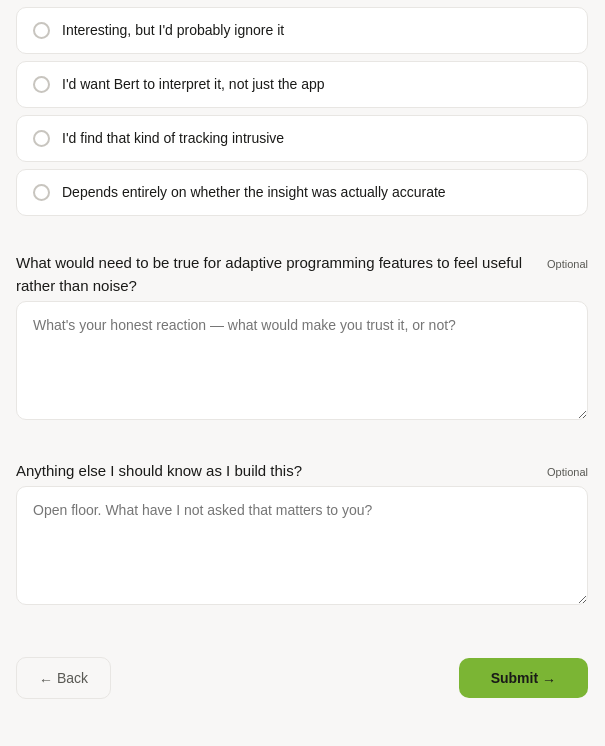
Test: submit handler › shows error message when fetch throws a network error
(page scrolled)
Click the button "Submit →".
click(523, 678)  # box [459, 658, 588, 698]
(page scrolled)
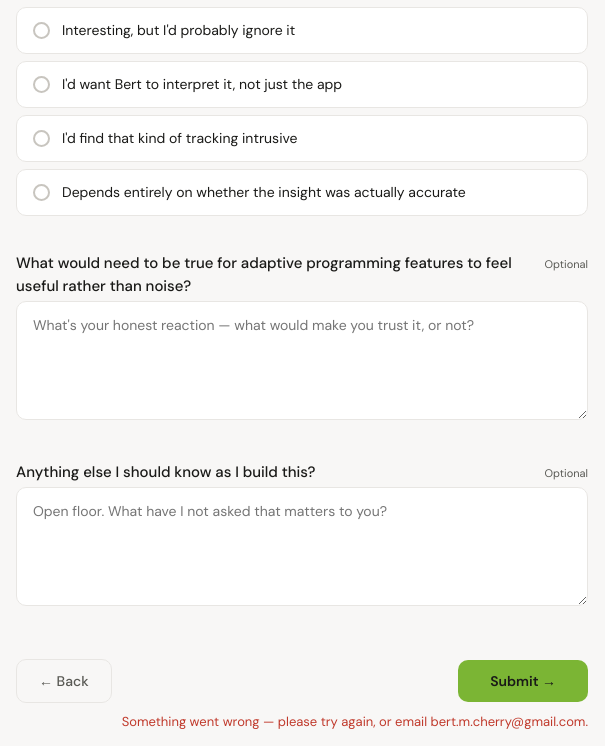
Expected: the message shows "Something went wrong", [122, 712, 588, 730]
